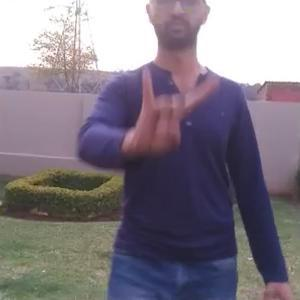takeoff-hand: (132, 61, 221, 161)
